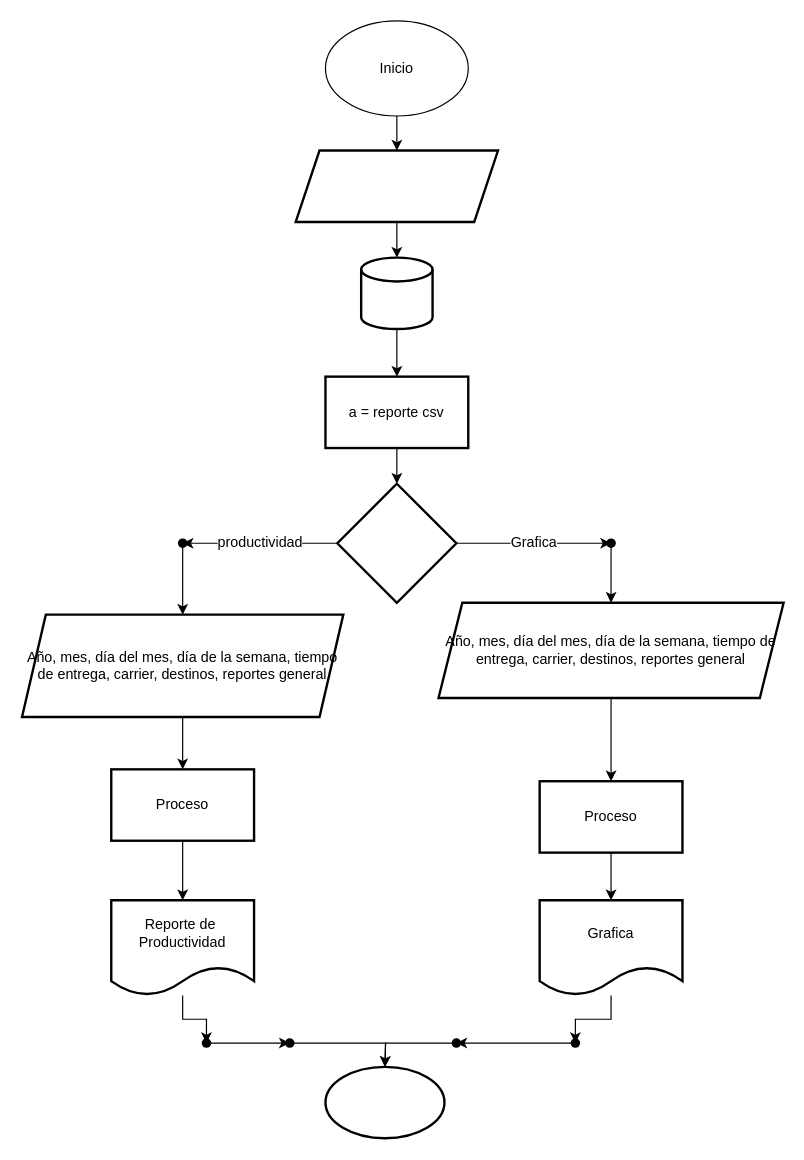
This 804x1160 diagram has some shape labels left out. Here are the shapes that lost their labels. From the top down, the box of each, then its label:
(294, 149, 499, 223): Ingrese registro de envios
(359, 256, 433, 330): Base de Datos
(336, 482, 457, 603): a = reporte
(324, 1065, 445, 1139): Salida
